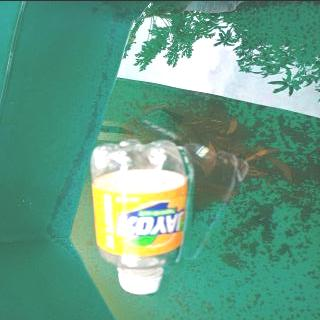bottle: (86, 135, 195, 295)
